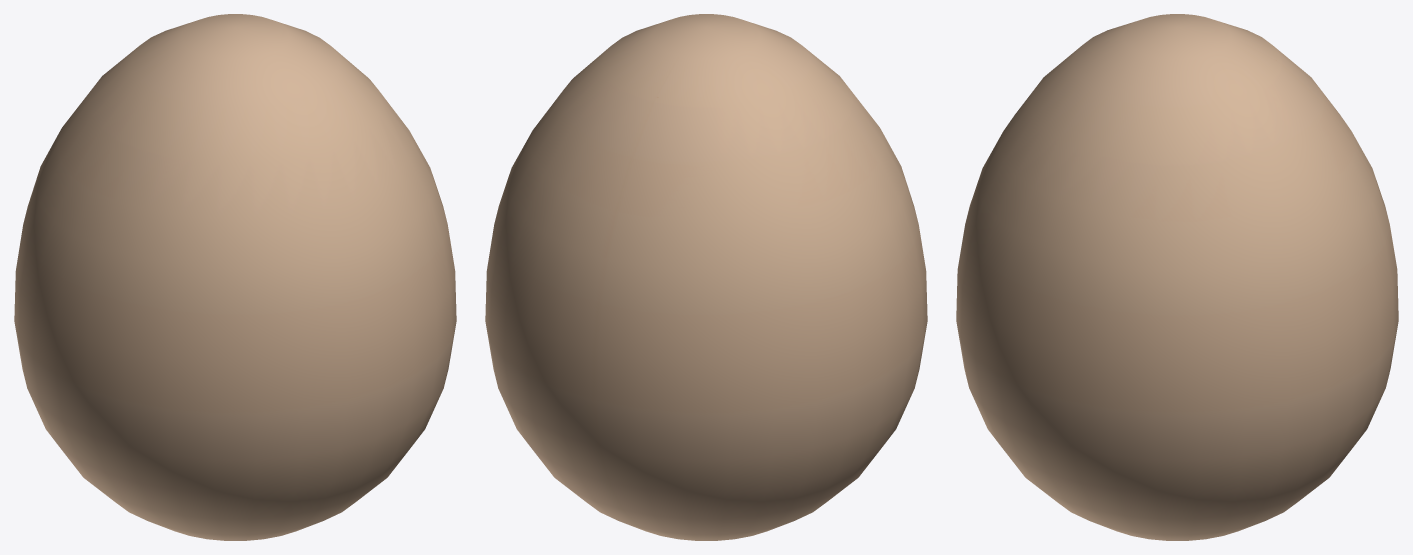
Rendered from White+Egg.obj.
3 renders of one model, left to right at view 1: azimuth 30°, elevation 25°; view 2: azimuth 150°, elevation 25°; view 3: azimuth 270°, elevation 25°, orthographic.
Visible parts, largest first — view 1: Egg_000; view 2: Egg_000; view 3: Egg_000.
Part boxes in pixels (box(x1,y1,x2,y2)): Egg_000: box(14, 14, 456, 540); Egg_000: box(485, 14, 927, 540); Egg_000: box(956, 14, 1398, 540).
Bounding box in the file's own units: 22.79 × 28.27 × 22.92.
